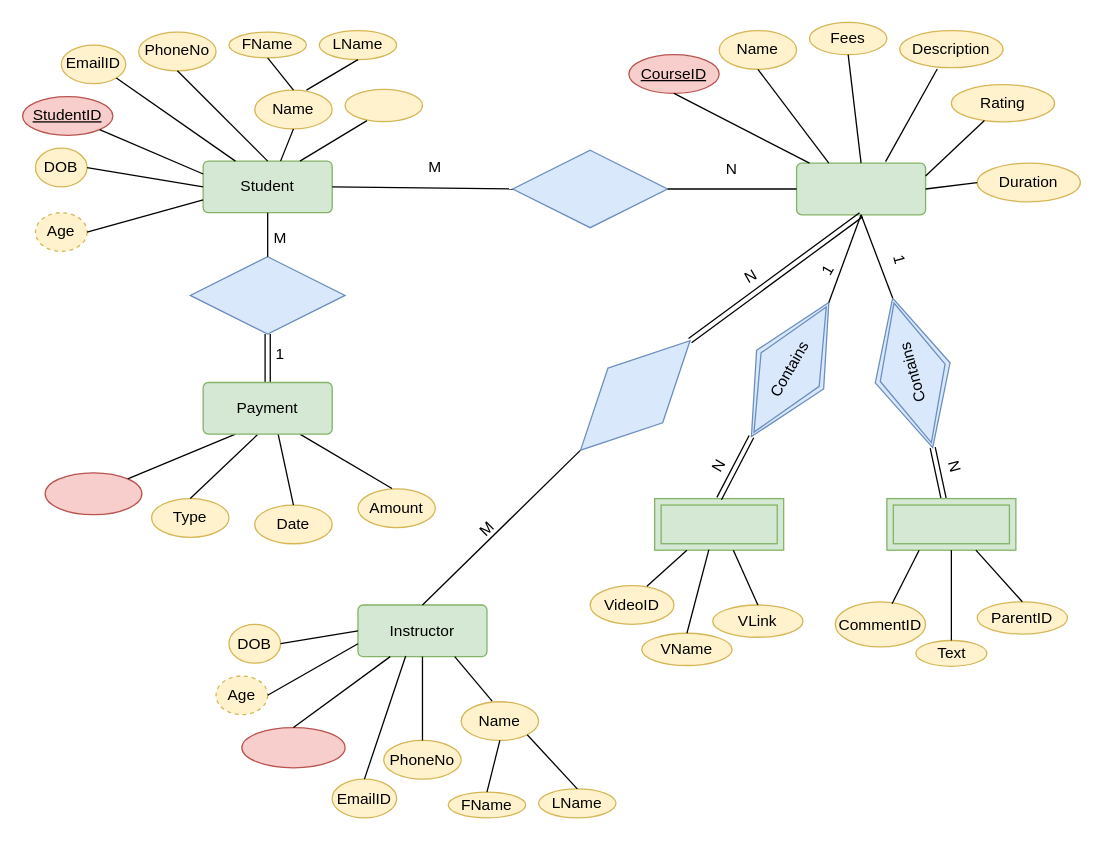
The diagram is 1103 pixels wide and 841 high, and some of its shapes have lost their labels. The centre of each missing label's shape, as x and y in pixels:
"Comment" belongs at (951,523).
"Course" belongs at (860,188).
"InstructorID" belongs at (293,747).
"isSuper" belongs at (383,105).
"PaymentID" belongs at (93,493).
"Pays" belongs at (267,294).
"Studies" belongs at (589,188).
"Teaches" belongs at (635,395).
"Video" belongs at (718,523).
